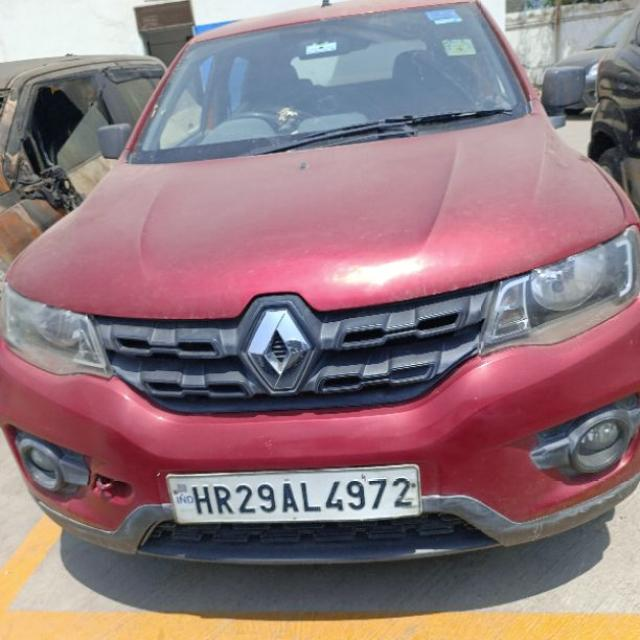license_plate: (164, 462, 423, 525)
